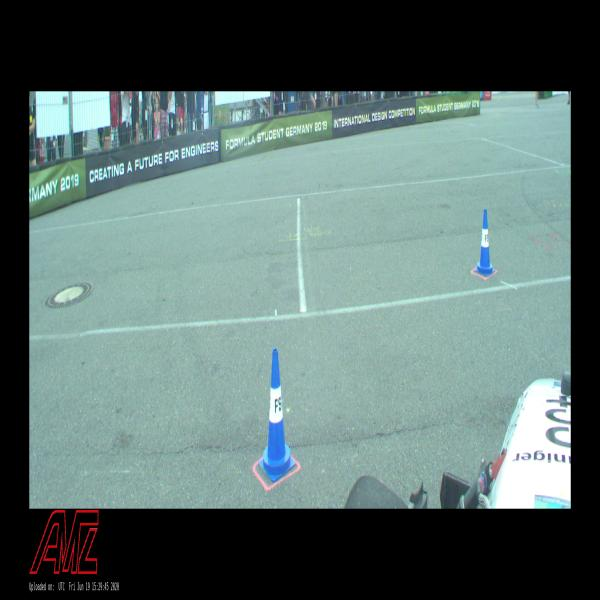blue_cone: (259, 349, 295, 481), (475, 210, 495, 276)
